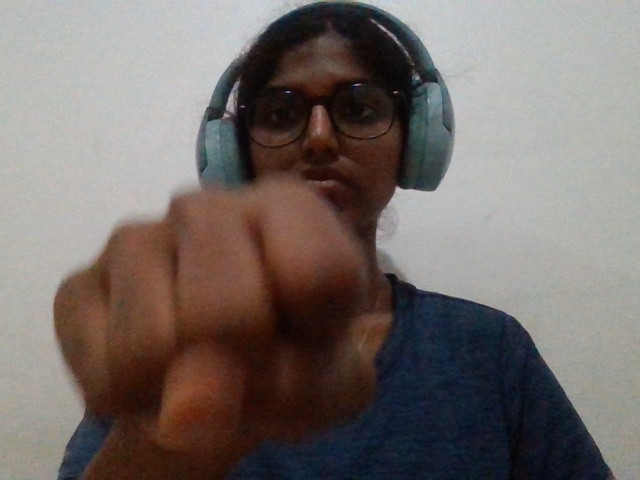Yes: (31, 167, 401, 480)
